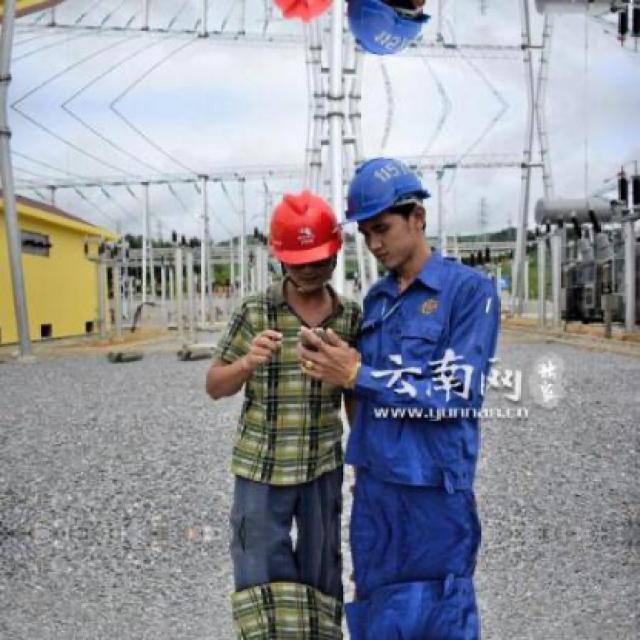helmet: (340, 145, 438, 271), (258, 182, 342, 302), (340, 0, 440, 69), (258, 0, 343, 32)
